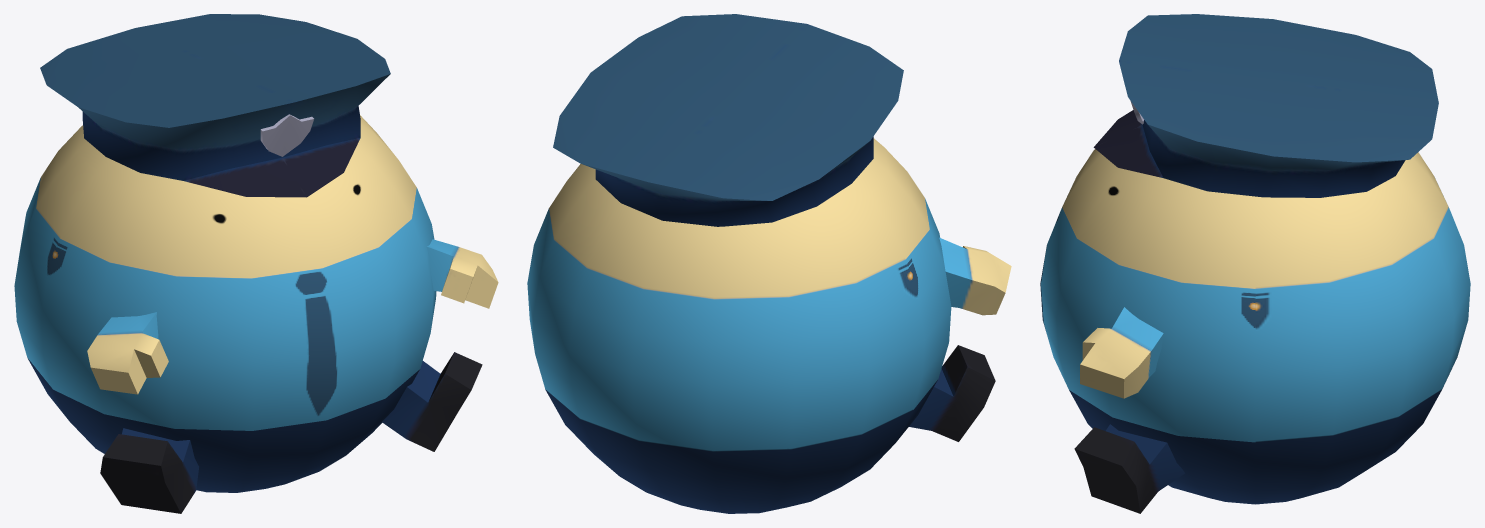
Rendered from TGball_02.FBX.
3 renders of one model, left to right at view 1: azimuth 30°, elevation 25°; view 2: azimuth 150°, elevation 25°; view 3: azimuth 270°, elevation 25°, orthographic.
Parts seen in each view (by area): view 1: TGball_02; view 2: TGball_02; view 3: TGball_02.
Part boxes in pixels (bbox=[...]): TGball_02: bbox=[14, 14, 498, 513]; TGball_02: bbox=[527, 14, 1011, 513]; TGball_02: bbox=[1040, 14, 1470, 513].
Size of the model in its own units: 3.34 by 3.08 by 3.34.
1 material, 1 textured.
